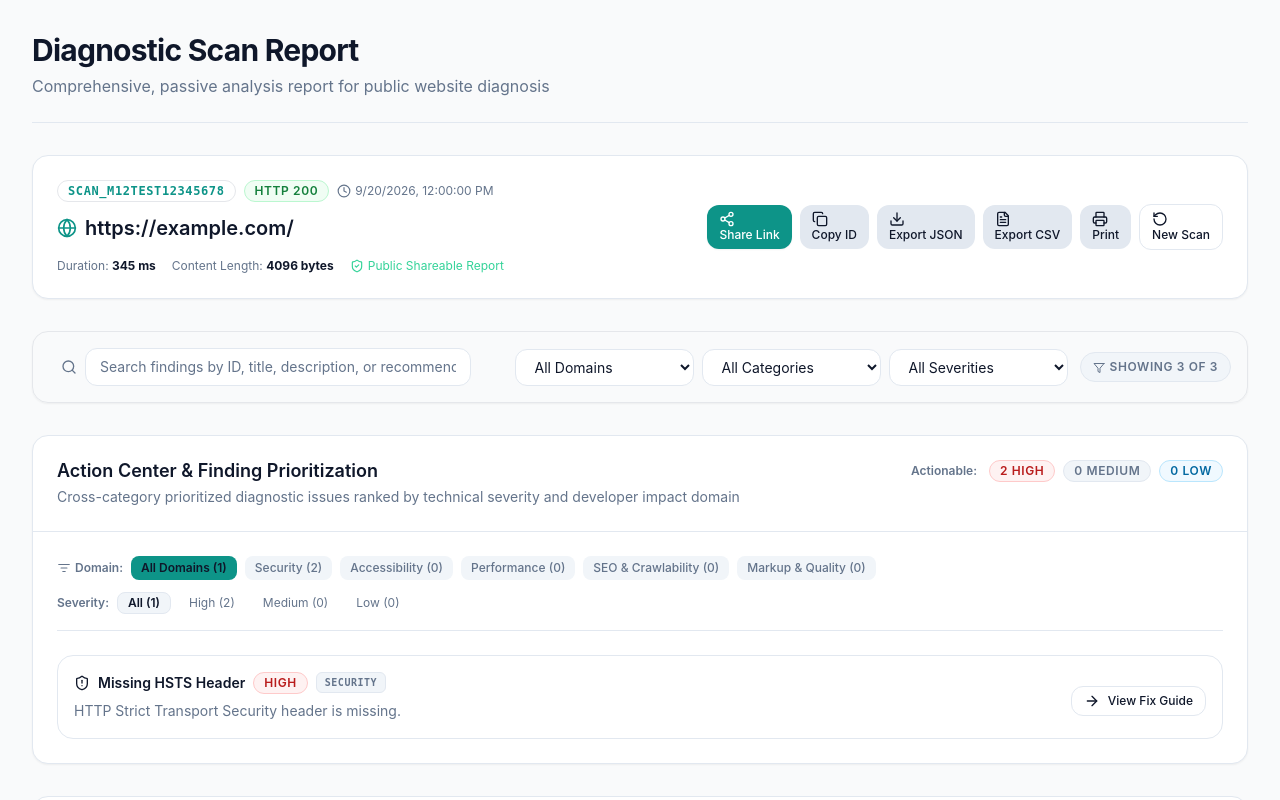
Test: Milestone 12 — Comprehensive UX Consistency, Error States & Product Quality Suite › 3. Detailed Search & Filter Semantics Suite › filters findings by title search
Check: the text "scan_m12test12345678" is shown, box [68, 183, 224, 199]
Replace the text in the field with placeholder "Search findings" with "Title Tag Present" at (278, 367), box [85, 348, 472, 386]
(page scrolled)
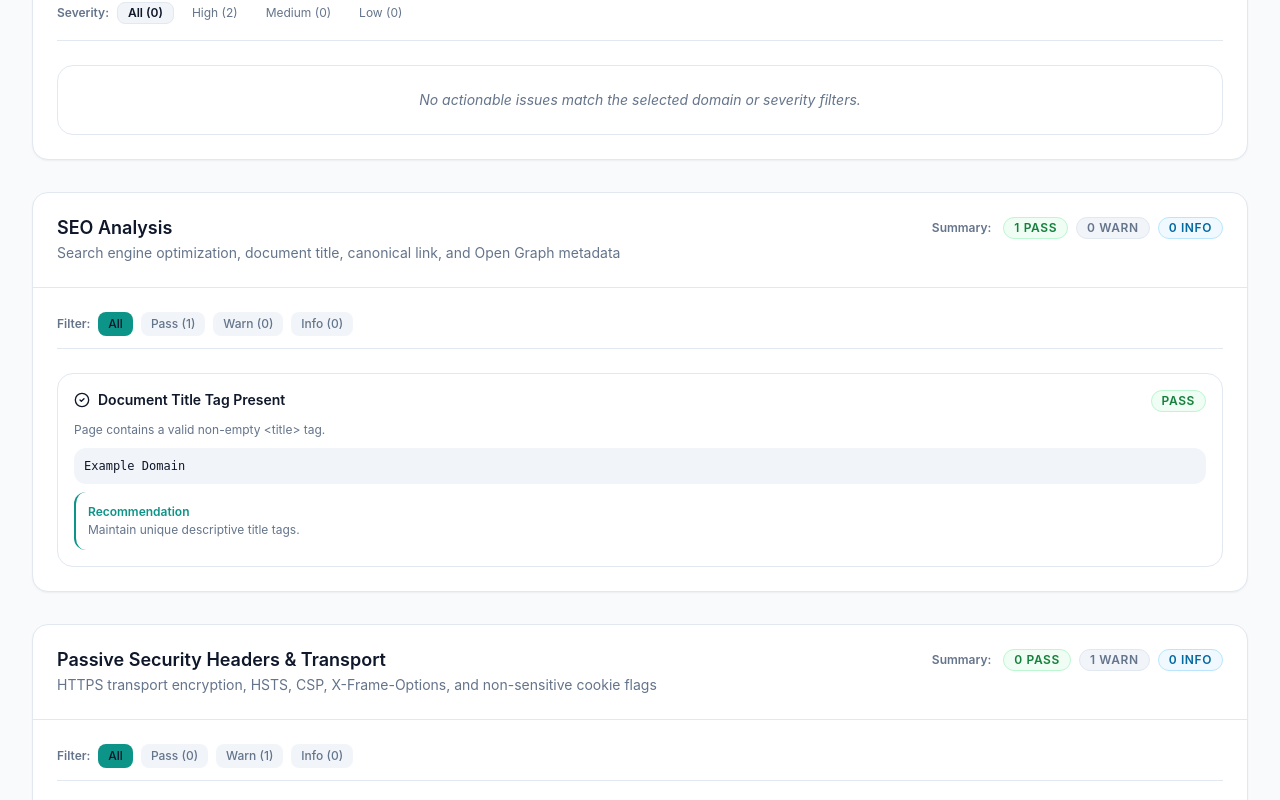
Check: the heading "Document Title Tag Present" is shown, box [98, 390, 285, 410]
Check: the heading "Missing HSTS Header" is gone
